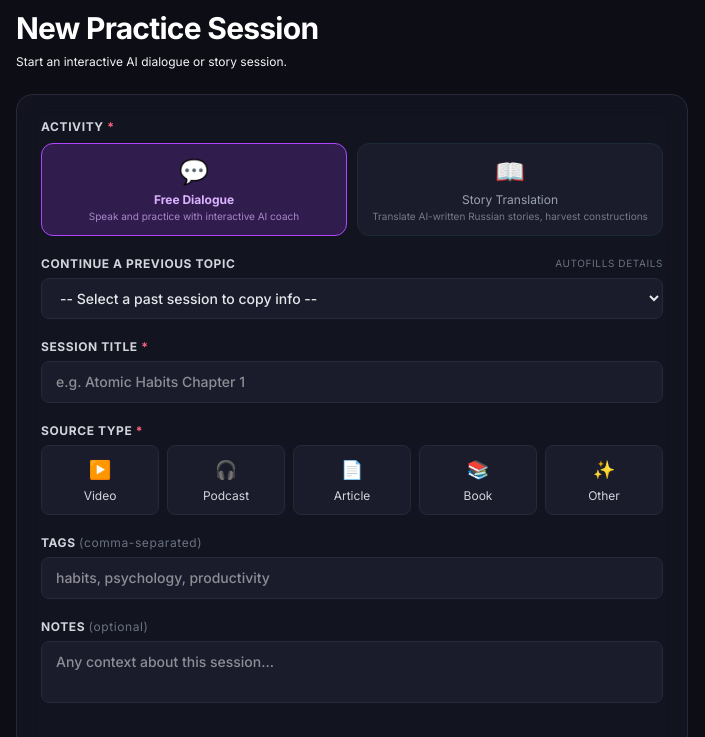
Test: Session Wizard Component › autofills previous session details when selecting a title from dropdown
Select "Previous Session (Book)" in the dropdown with id "select-prev-title" at [352, 298], box [41,278,663,318]
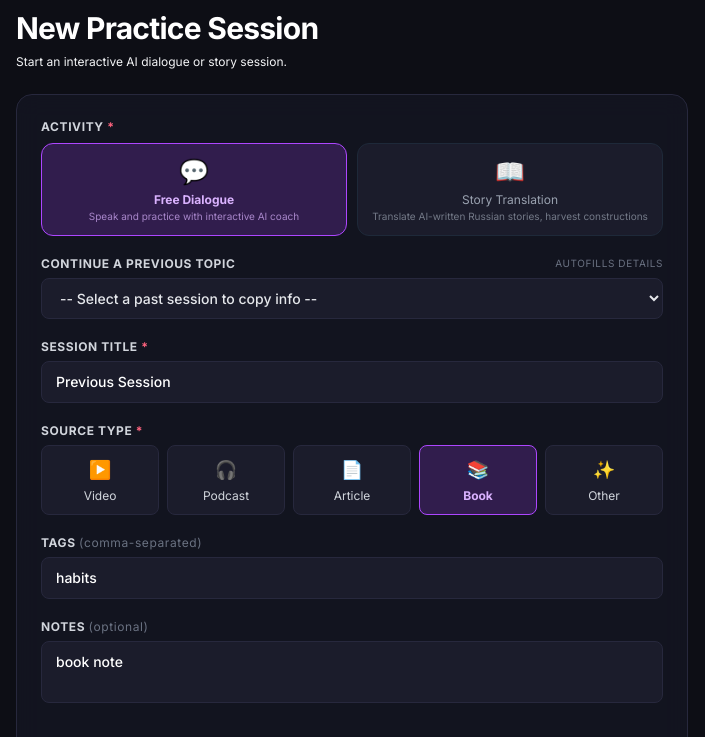
Now the field with placeholder "e.g. Atomic Habits Chapter 1" holds "Previous Session", box [41,360,663,402]
Now the field with placeholder "habits, psychology, productivity" holds "habits", box [41,556,663,598]
